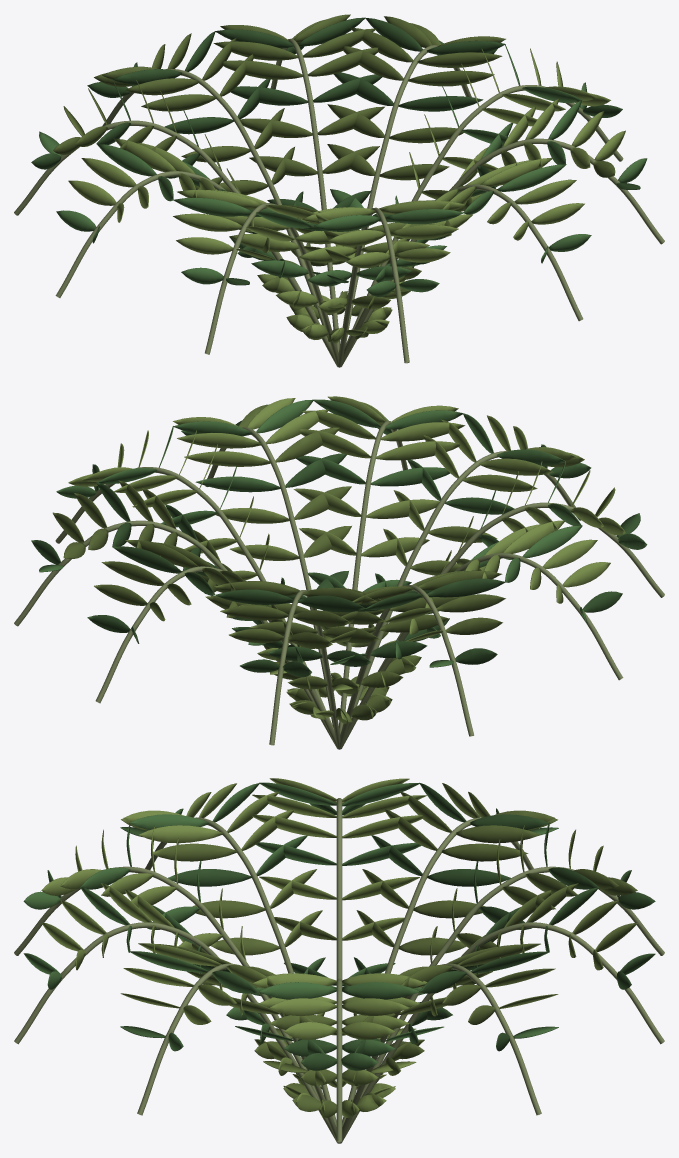
The model's file is fern.glb.
3 renders of one model, top to bottom at view 1: azimuth 30°, elevation 25°; view 2: azimuth 150°, elevation 25°; view 3: azimuth 270°, elevation 25°, orthographic. The views are drawn at different scales.
Visible parts, largest first — view 1: Atelier_Fern; view 2: Atelier_Fern; view 3: Atelier_Fern.
Boxes of the visible parts, x1,y1,x2,y2 form: Atelier_Fern: (14,14,664,367); Atelier_Fern: (14,396,664,749); Atelier_Fern: (14,778,664,1143).
Size of the model in its own units: 1.45 by 0.6053 by 1.38.
